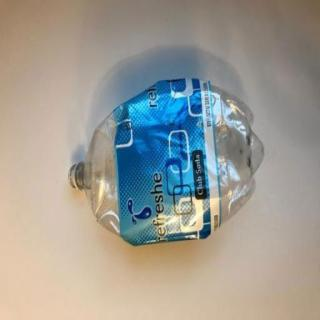Plastic-bottle: (68, 78, 269, 251)
